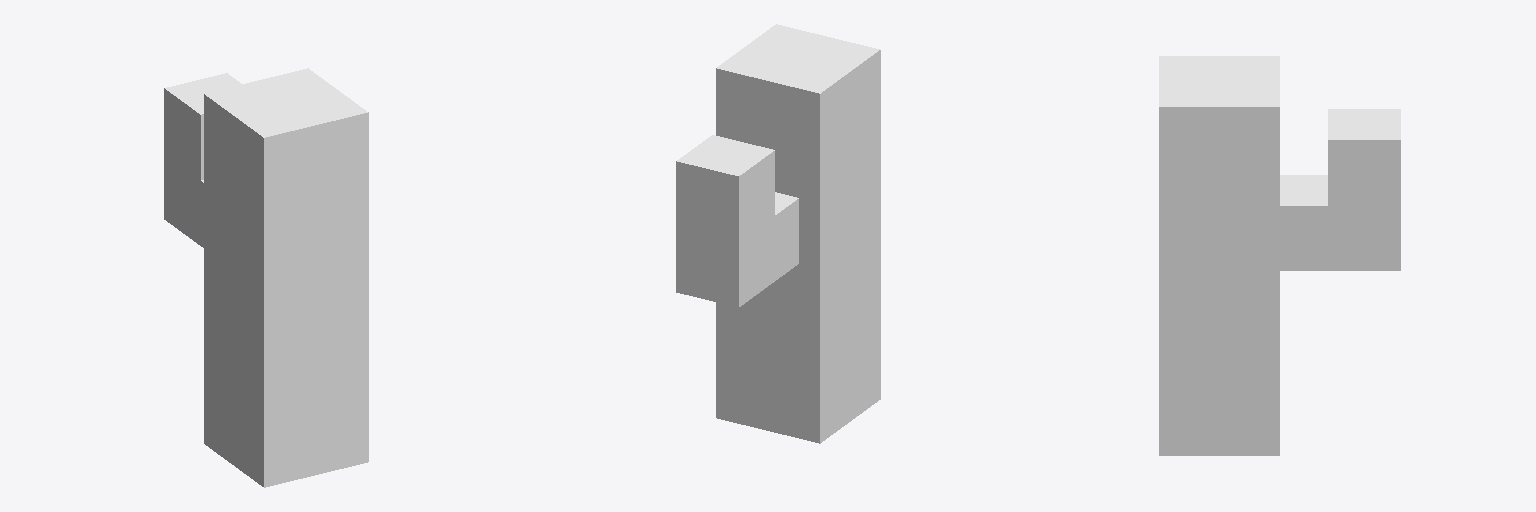
Rendered from cactus_small.obj.
3 renders of one model, left to right at view 1: azimuth 30°, elevation 25°; view 2: azimuth 150°, elevation 25°; view 3: azimuth 270°, elevation 25°, orthographic.
Parts seen in each view (by area): view 1: object 1; view 2: object 1; view 3: object 1.
Part boxes in pixels (bbox=[...]): object 1: bbox=[164, 68, 368, 487]; object 1: bbox=[676, 24, 880, 443]; object 1: bbox=[1159, 56, 1400, 455].
Size of the model in its own units: 0.5 by 1.6 by 1.